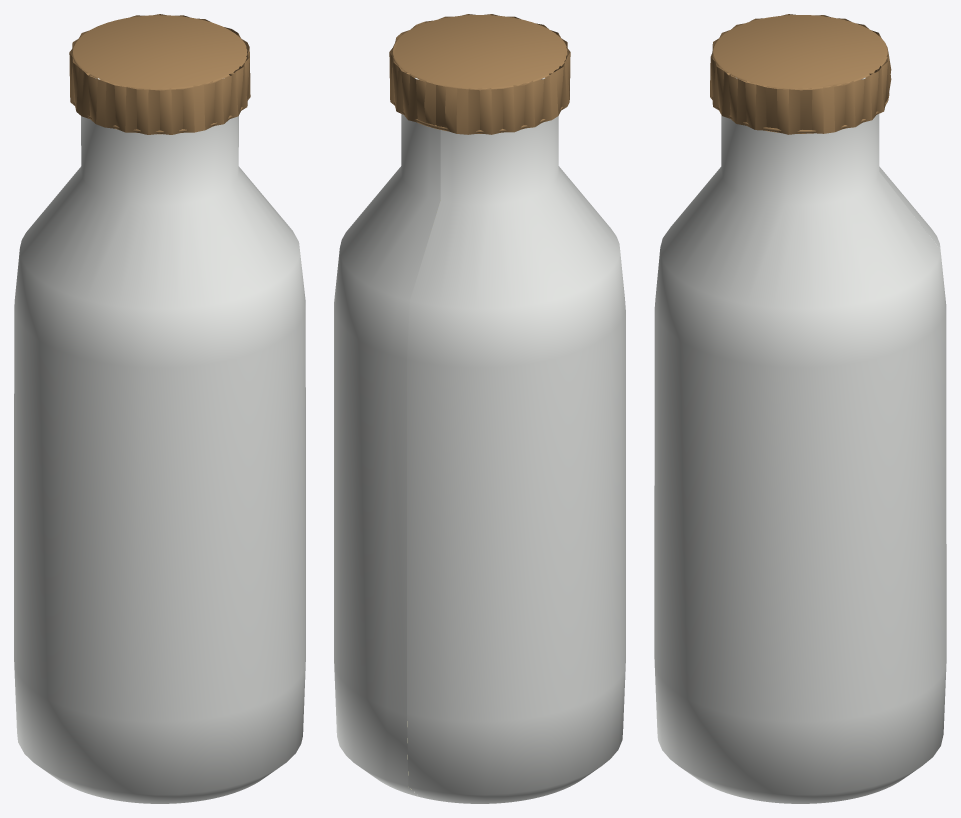
The picture shows the model from 3 angles, left to right: view 1: azimuth 30°, elevation 25°; view 2: azimuth 150°, elevation 25°; view 3: azimuth 270°, elevation 25°; orthographic projection.
Visible parts, largest first — view 1: thin shell with corrected shoulder, removable closure; view 2: thin shell with corrected shoulder, removable closure; view 3: thin shell with corrected shoulder, removable closure.
Part boxes in pixels (box(x1,y1,x2,y2)): thin shell with corrected shoulder: box(14, 116, 305, 803); removable closure: box(69, 14, 250, 134); thin shell with corrected shoulder: box(334, 114, 625, 803); removable closure: box(389, 14, 570, 134); thin shell with corrected shoulder: box(654, 114, 946, 803); removable closure: box(710, 14, 891, 134).
Bounding box in the file's own units: 0.0811 × 0.215 × 0.0811.
